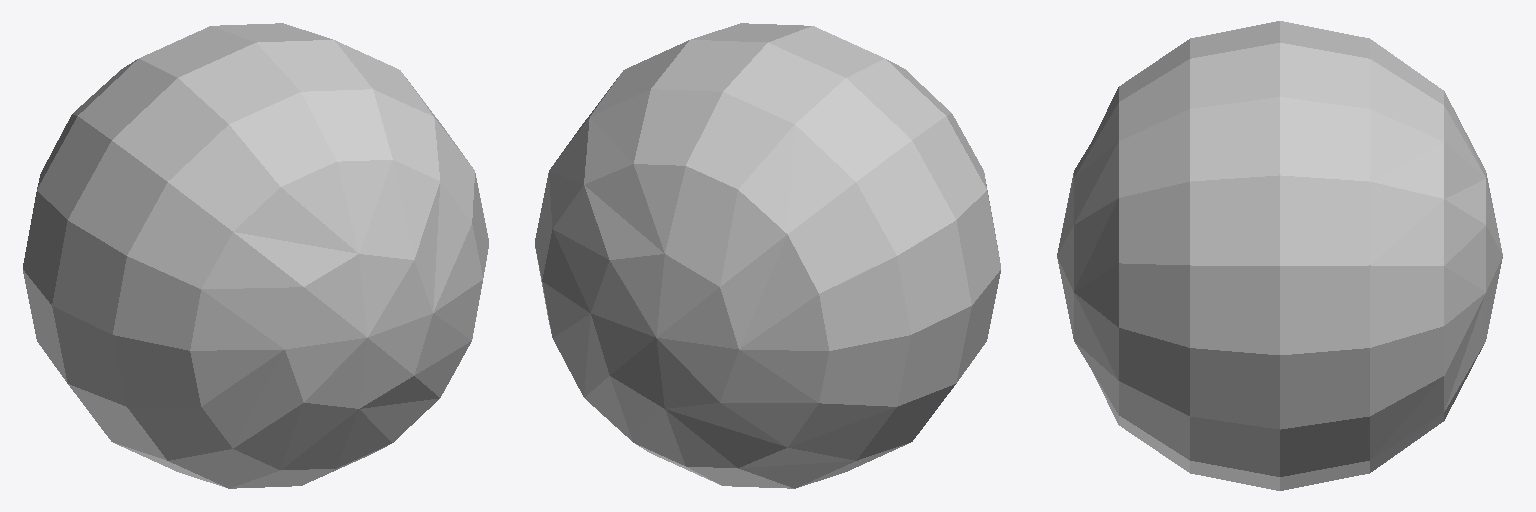
The model's file is RShoulderPitch.obj.
3 renders of one model, left to right at view 1: azimuth 30°, elevation 25°; view 2: azimuth 150°, elevation 25°; view 3: azimuth 270°, elevation 25°, orthographic.
Parts seen in each view (by area): view 1: default; view 2: default; view 3: default.
Boxes of the visible parts, box(x1,y1,x2,y2) form: default: box(23, 23, 488, 488); default: box(535, 23, 1000, 488); default: box(1057, 21, 1502, 490).
Size of the model in its own units: 0.087 by 0.087 by 0.0824.